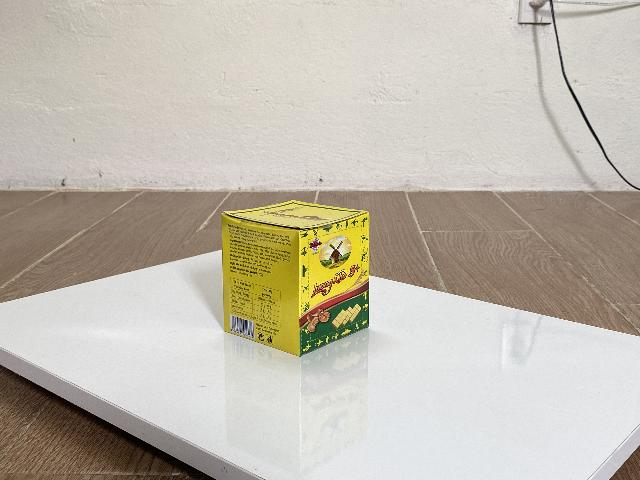luong_kho: (221, 200, 370, 356)
